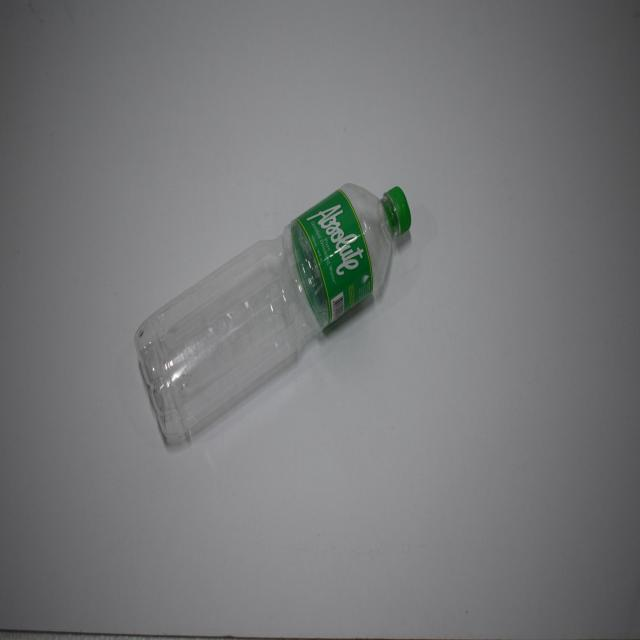empty: (135, 183, 411, 441)
